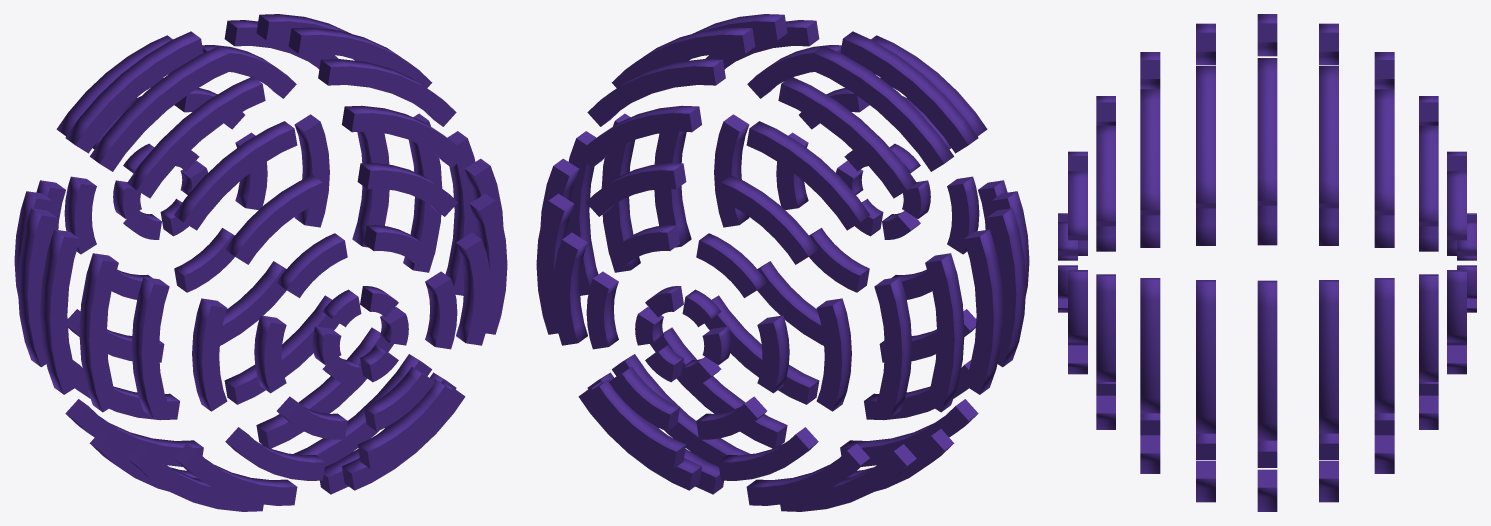
The model's file is coolball.glb.
The picture shows the model from 3 angles, left to right: view 1: azimuth 30°, elevation 25°; view 2: azimuth 150°, elevation 25°; view 3: azimuth 270°, elevation 25°; orthographic projection.
Visible parts, largest first — view 1: group_0_6383466; view 2: group_0_6383466; view 3: group_0_6383466.
Part boxes in pixels (bbox=[...]): group_0_6383466: bbox=[14, 14, 507, 511]; group_0_6383466: bbox=[536, 14, 1029, 511]; group_0_6383466: bbox=[1058, 14, 1476, 511].
Bounding box in the file's own units: 100 × 98.47 × 84.
